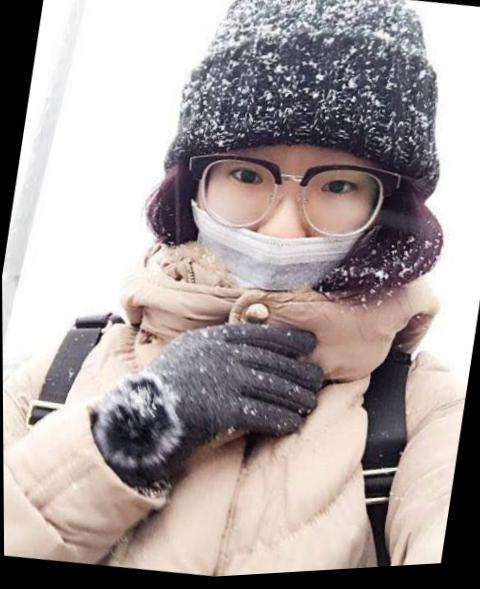WRONG: (177, 110, 391, 333)
